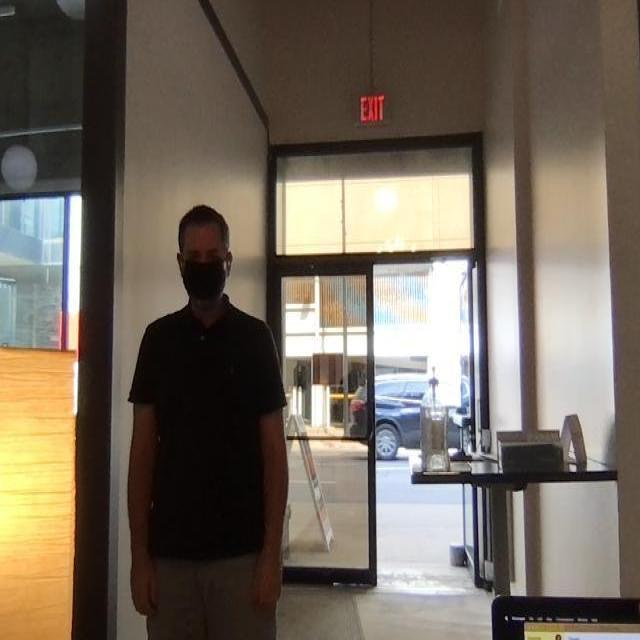no-helmet: (175, 205, 233, 307)
